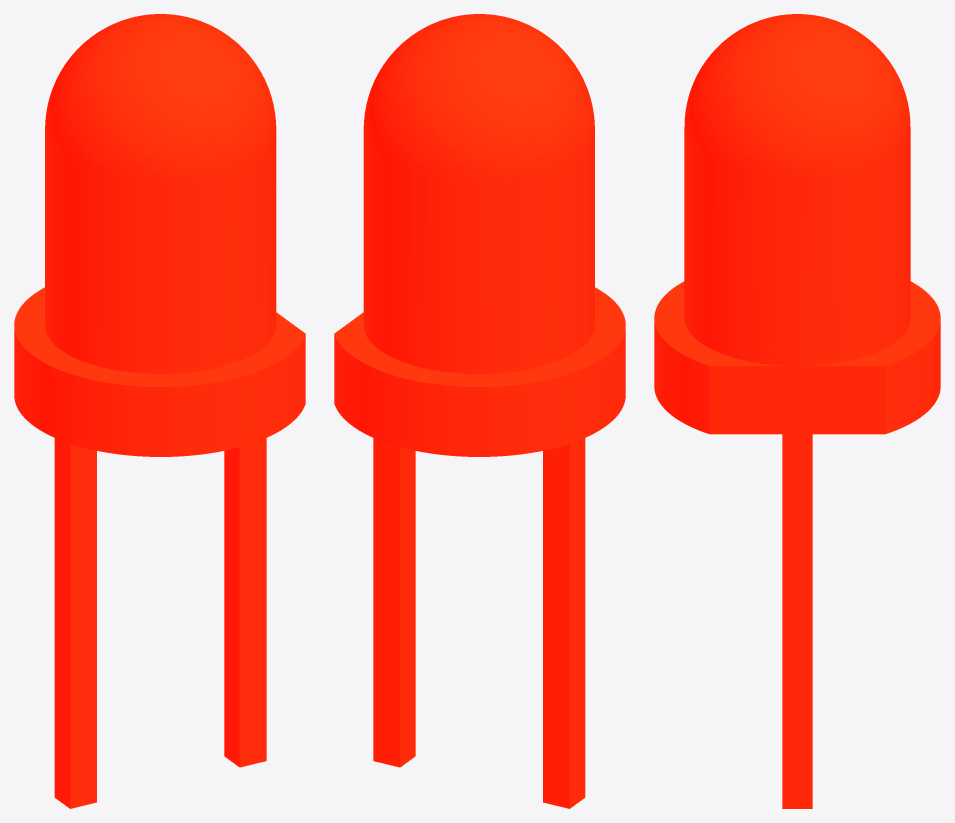
Rendered from pendulum_robot_led_d3_0mm004_gpravn.dae.
3 renders of one model, left to right at view 1: azimuth 30°, elevation 25°; view 2: azimuth 150°, elevation 25°; view 3: azimuth 270°, elevation 25°, orthographic. The views are drawn at different scales.
Visible parts, largest first — view 1: node0; view 2: node0; view 3: node0.
Boxes of the visible parts, x1=… form: node0: x1=14, y1=14, x2=305, y2=808; node0: x1=334, y1=14, x2=625, y2=808; node0: x1=654, y1=14, x2=940, y2=808.
Bounding box in the file's own units: 0.0034 × 0.0038 × 0.0108.
